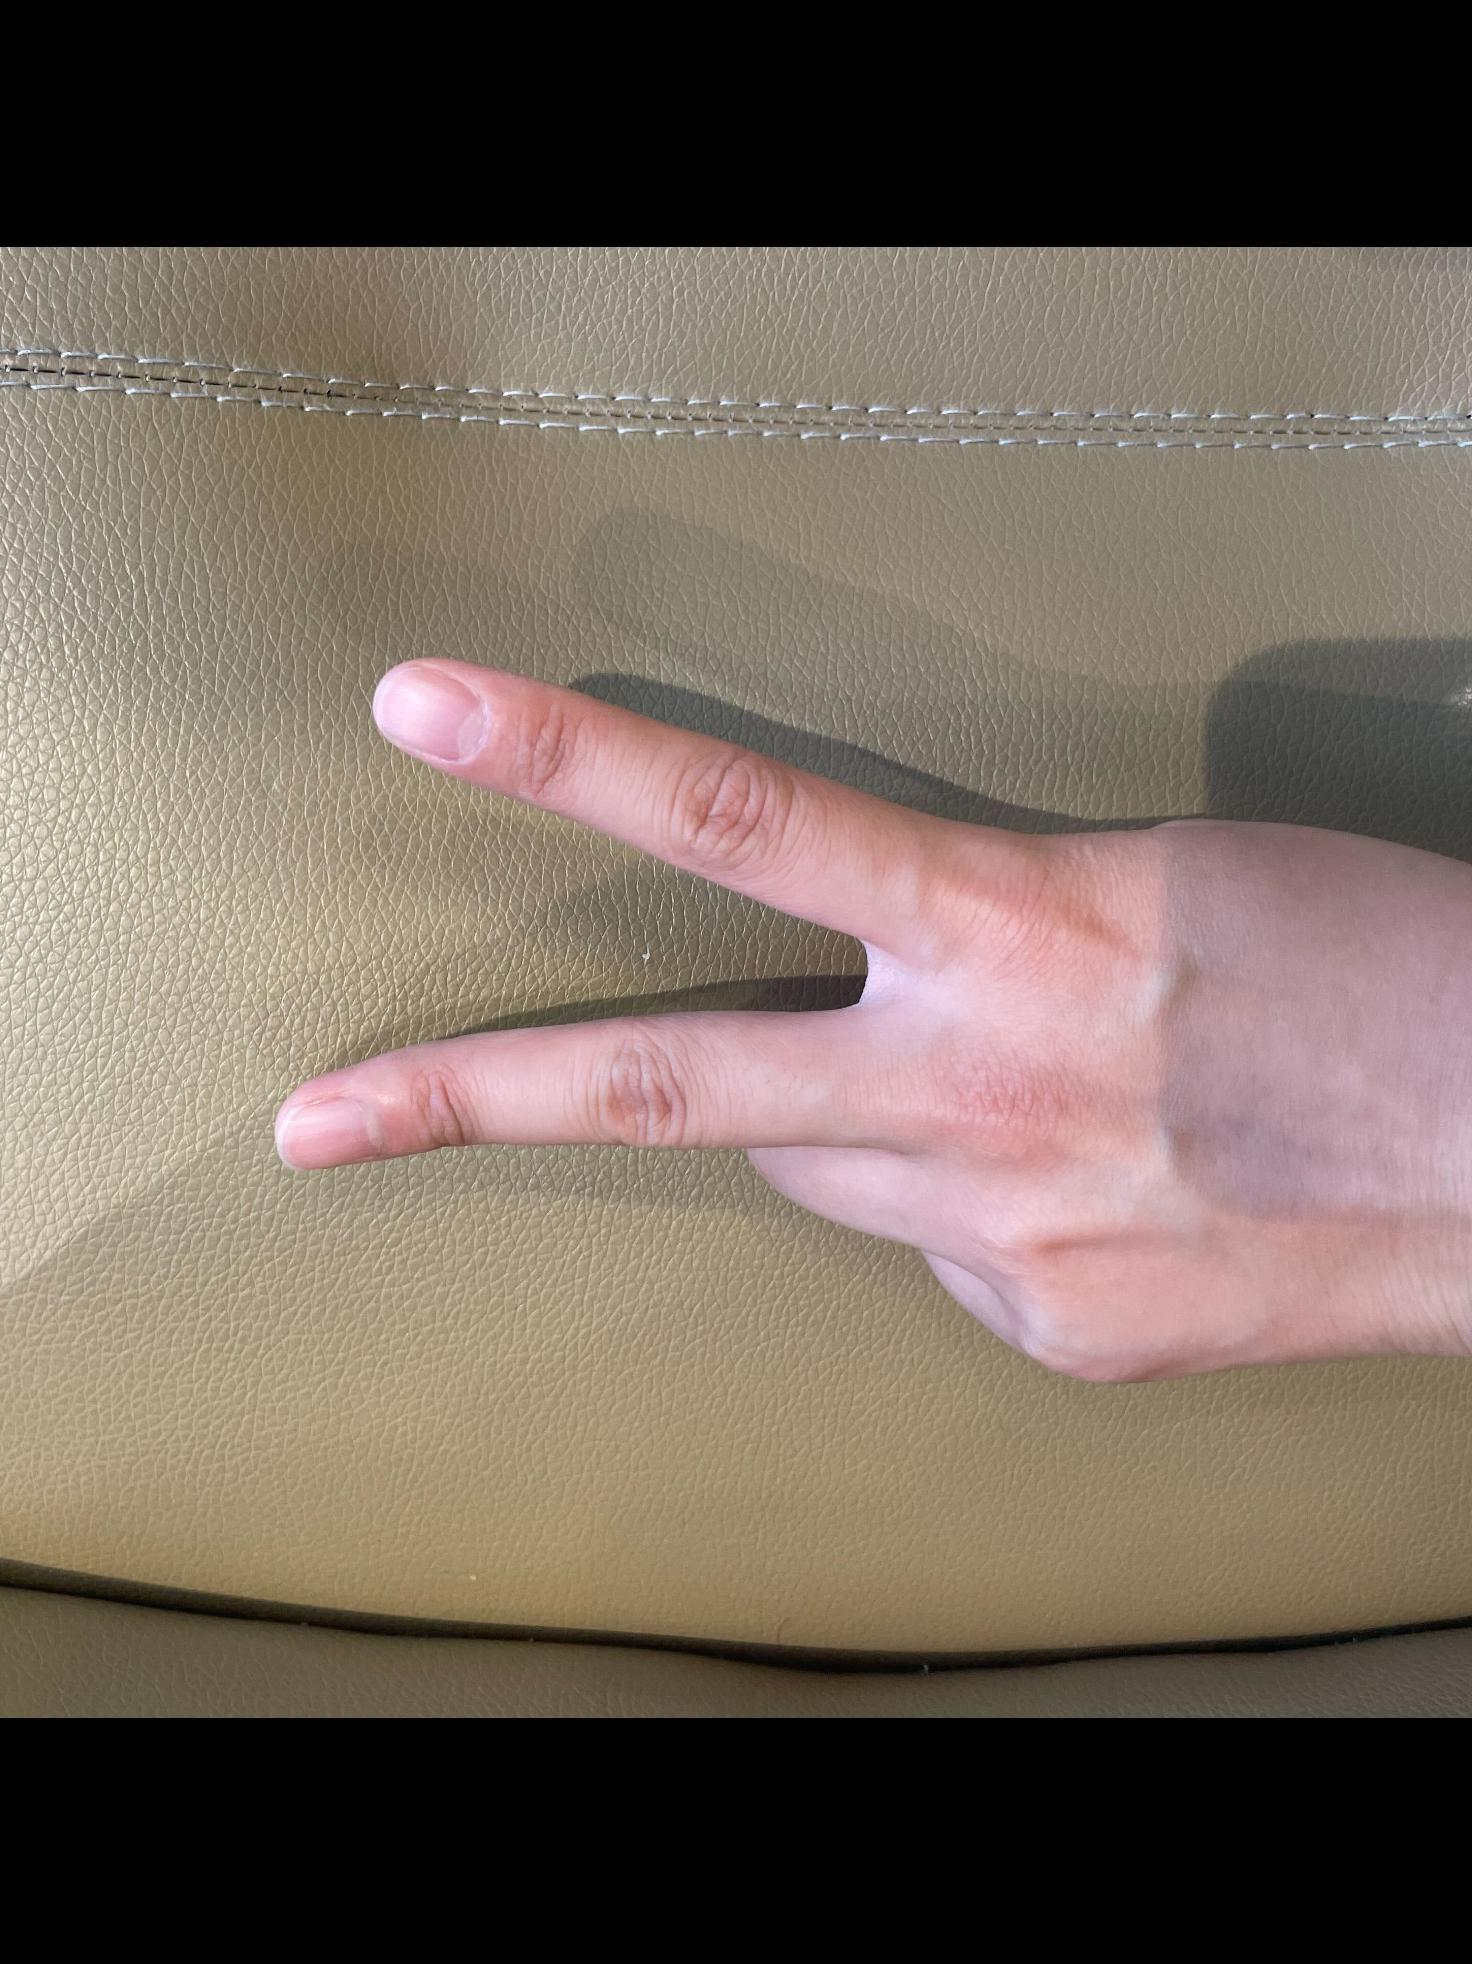v: (250, 650, 1472, 1403)
